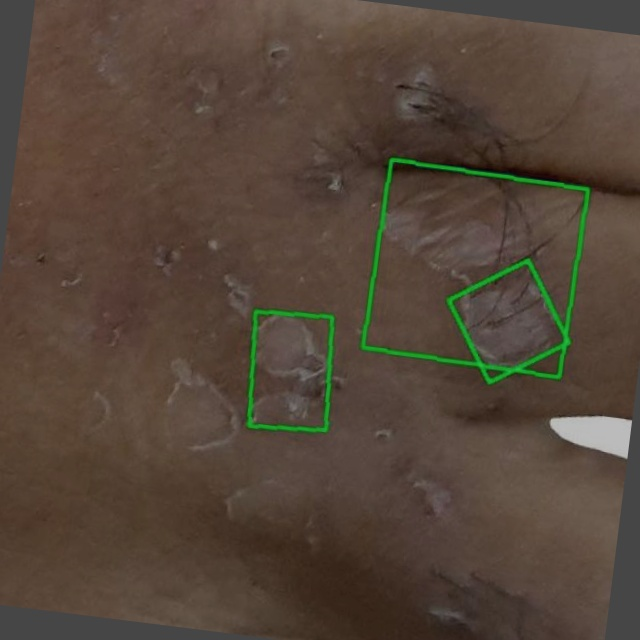Eczema: (362, 159, 587, 377), (447, 261, 568, 383), (248, 312, 332, 431)
